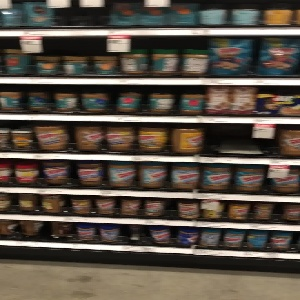void: (201, 123, 282, 158), (51, 1, 105, 28), (118, 224, 152, 250)
